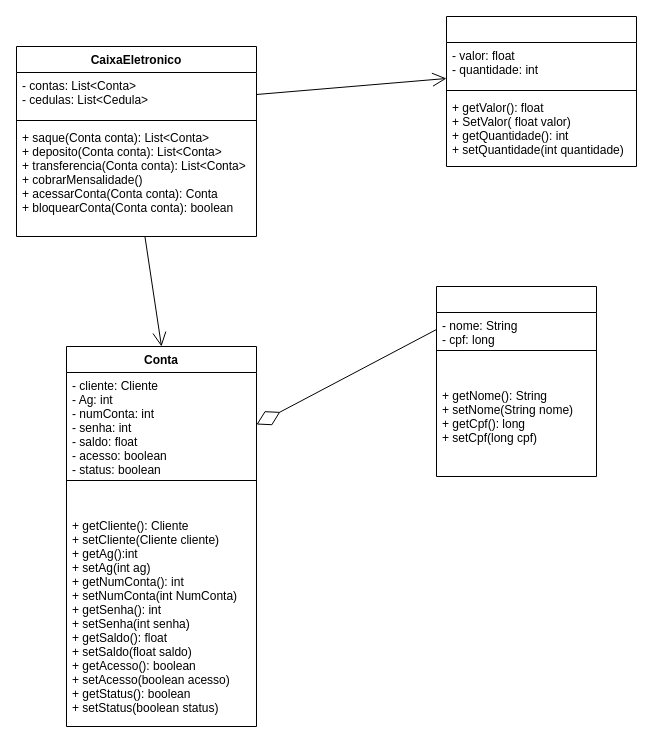
This 653x743 diagram has some shape labels left out. Each missing label, with the box of its shape:
Cedula: (446, 16, 636, 166)
Cliente: (436, 286, 596, 476)
